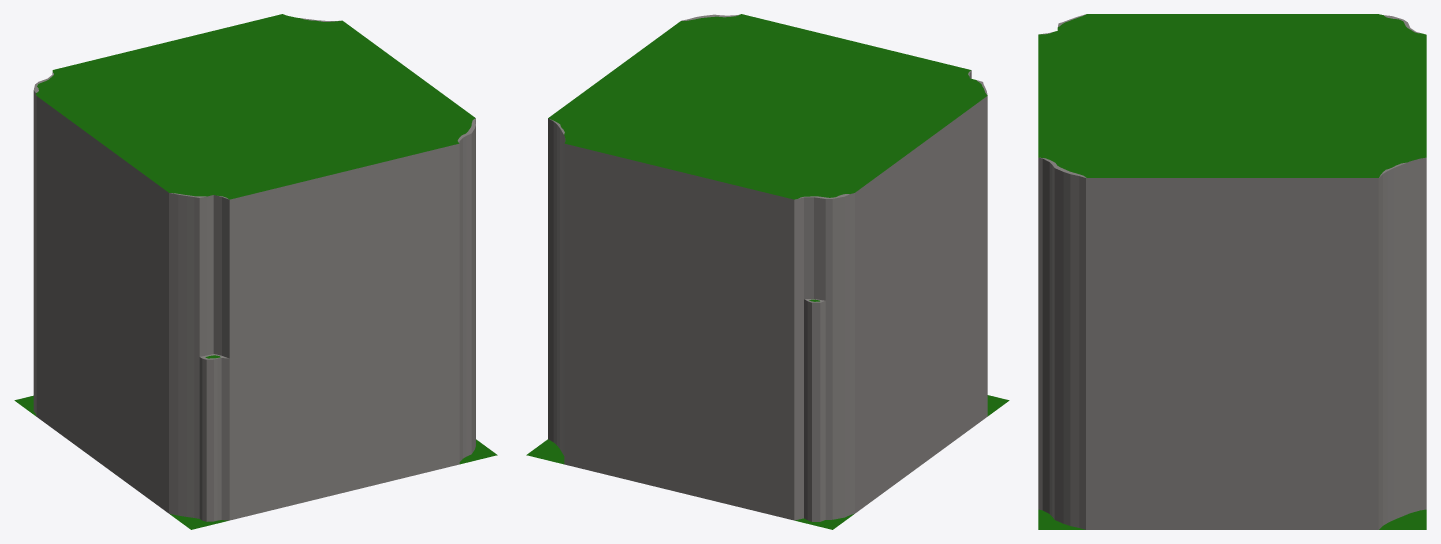
Rendered from MountainQuadWedge.fbx.
The picture shows the model from 3 angles, left to right: view 1: azimuth 30°, elevation 25°; view 2: azimuth 150°, elevation 25°; view 3: azimuth 270°, elevation 25°; orthographic projection. The views are drawn at different scales.
Parts seen in each view (by area): view 1: Plane.007; view 2: Plane.007; view 3: Plane.007.
Part boxes in pixels (x1,y1,x2,y2): Plane.007: [14, 14, 497, 529]; Plane.007: [526, 14, 1009, 529]; Plane.007: [1038, 14, 1426, 529].
Bounding box in the file's own units: 100 × 100 × 100.
